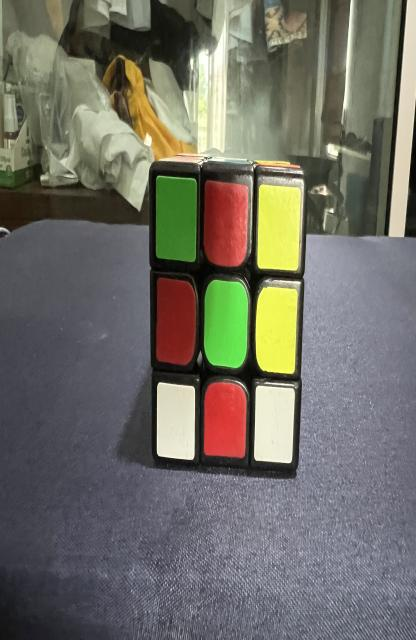Green: (204, 280, 249, 368), (155, 175, 197, 262)
Red: (204, 180, 249, 267), (156, 277, 196, 365), (204, 382, 246, 458)
White: (254, 385, 295, 463), (157, 382, 195, 460)
Yellow: (258, 183, 301, 272), (255, 287, 297, 373)
